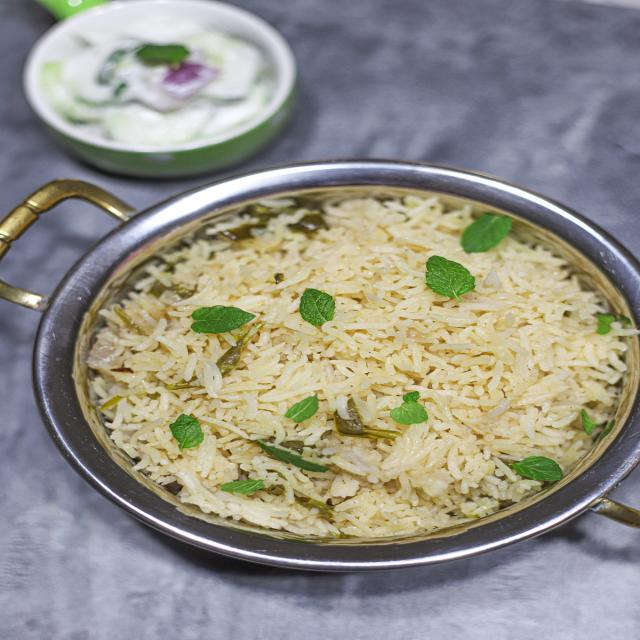nei satham: (57, 191, 638, 557)
